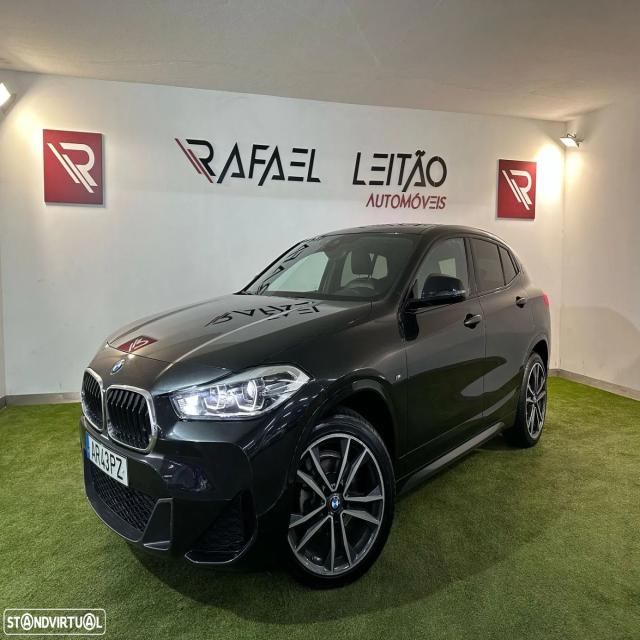portuguese-license-plates: (86, 432, 128, 487)
